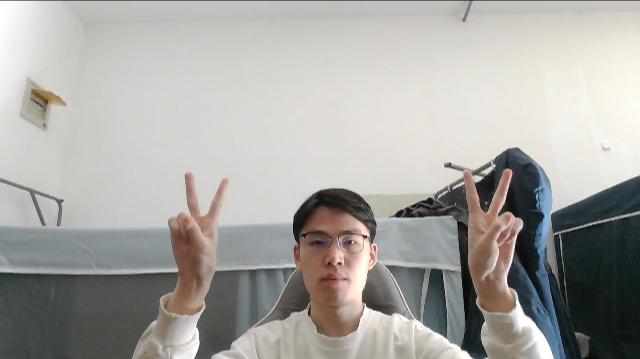two: (462, 169, 522, 284), (168, 172, 230, 282)
